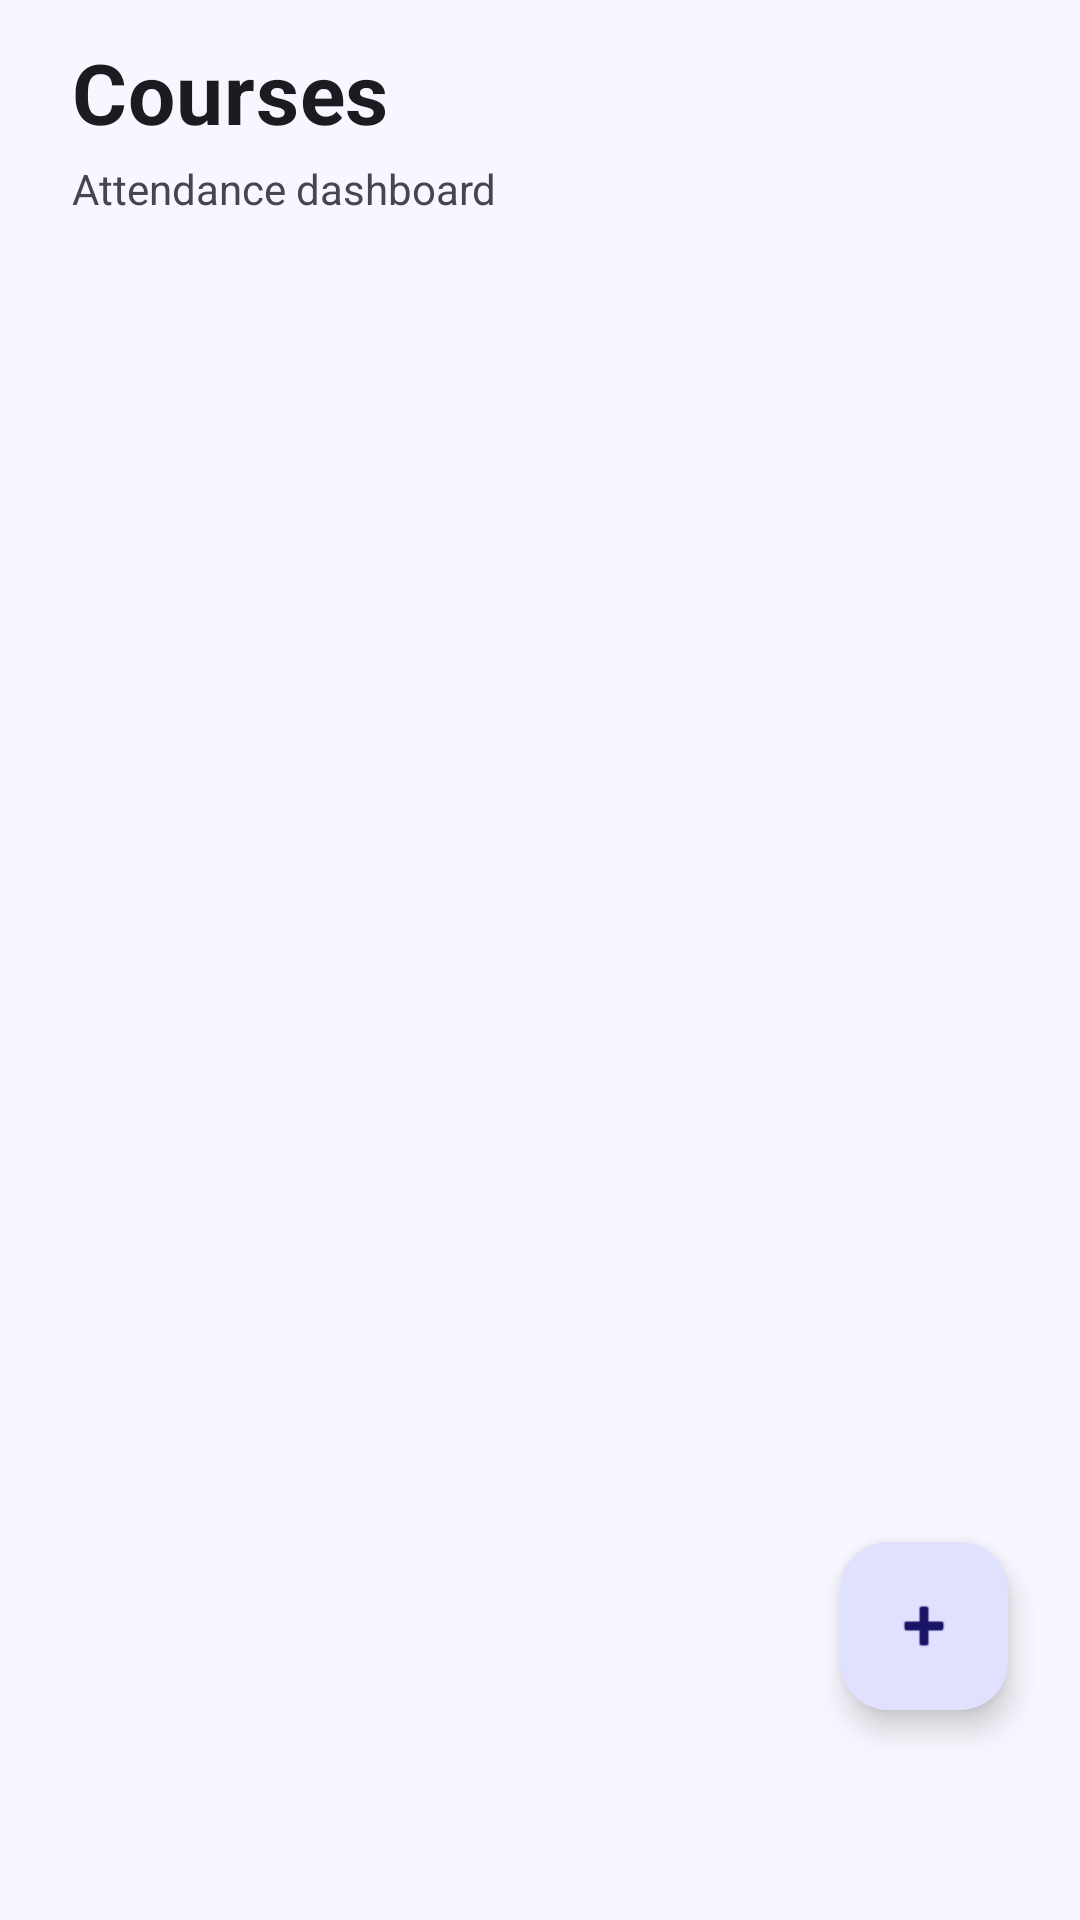

Point at icon controls on the screen. Image size 1080px×1920px, points as [x,y].
Add Course: [924,1626]
